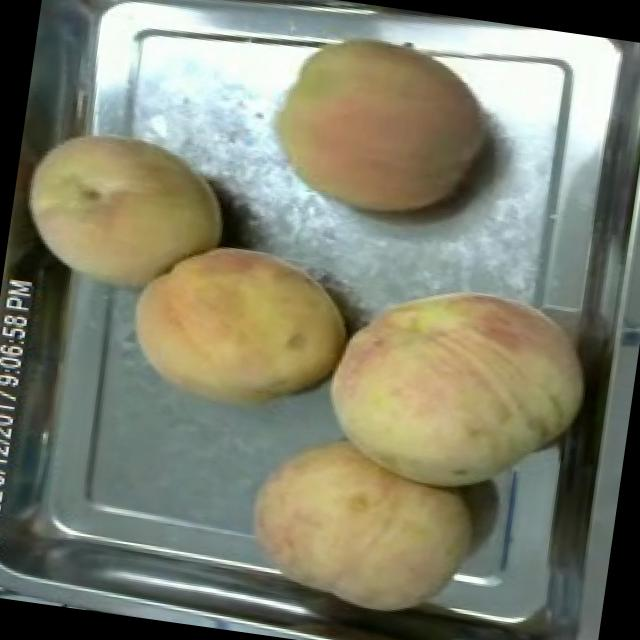Fruit: (304, 258, 612, 522), (228, 414, 498, 634), (254, 12, 506, 235), (114, 224, 364, 430), (6, 112, 242, 312)
